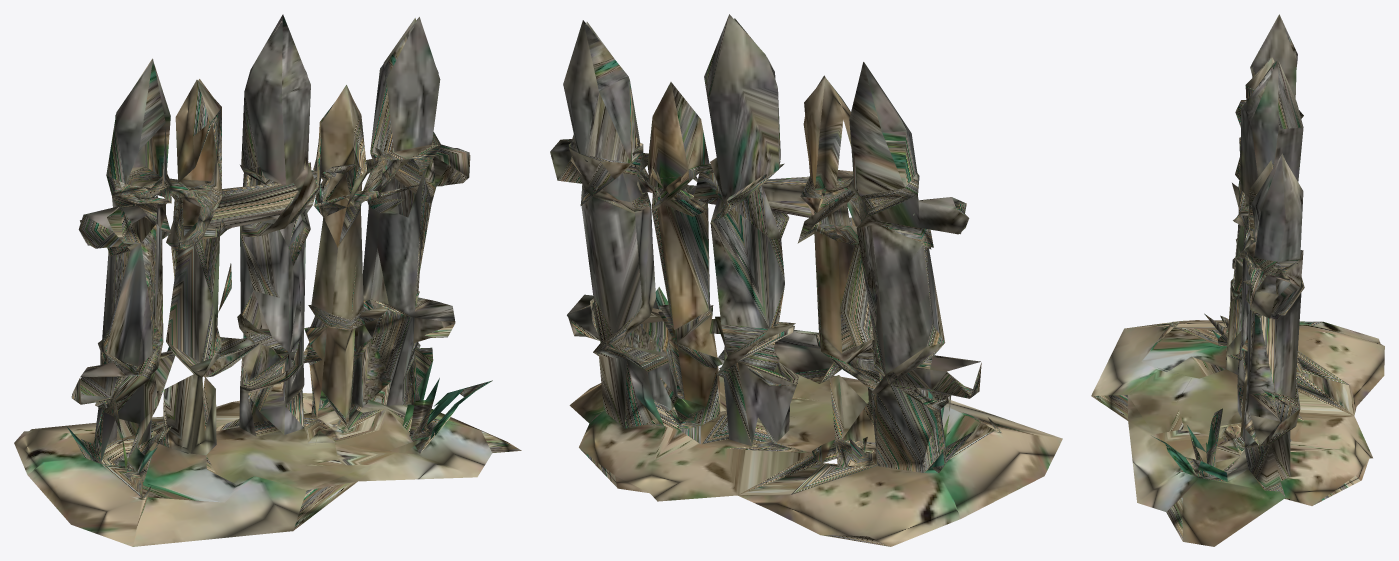
Rendered from sw-palisade-lite.glb.
3 renders of one model, left to right at view 1: azimuth 30°, elevation 25°; view 2: azimuth 150°, elevation 25°; view 3: azimuth 270°, elevation 25°, orthographic. The views are drawn at different scales.
Visible parts, largest first — view 1: geometry_0; view 2: geometry_0; view 3: geometry_0.
Part boxes in pixels (x1,y1,x2,y2): geometry_0: (14,14,521,546); geometry_0: (550,14,1062,546); geometry_0: (1091,14,1384,546).
Size of the model in its own units: 0.866 by 0.8305 by 0.5467.
1 material, 1 textured.
